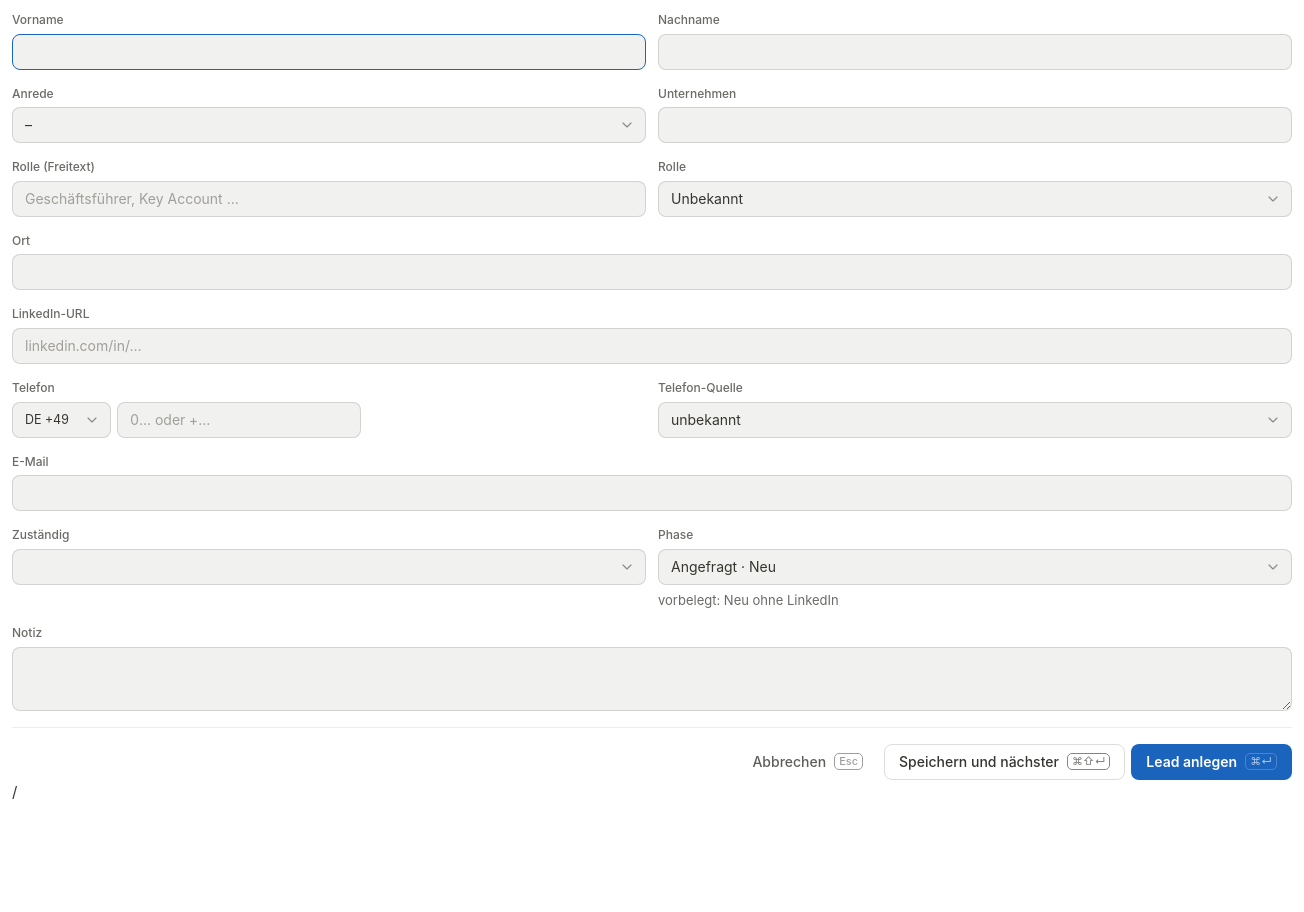
Test: LeadForm › Phase vorbelegt: Vernetzt mit URL, sonst Neu ohne LinkedIn
The width and height of the screenshot is (1304, 912).
Expected: the text "vorbelegt: Neu ohne LinkedIn" is shown, [658,592,839,608]
Type "https://www.linkedin.com/in/mara-brandt/" into the field labelled "LinkedIn-URL". click: (652, 346)
box: [25,329,1279,363]
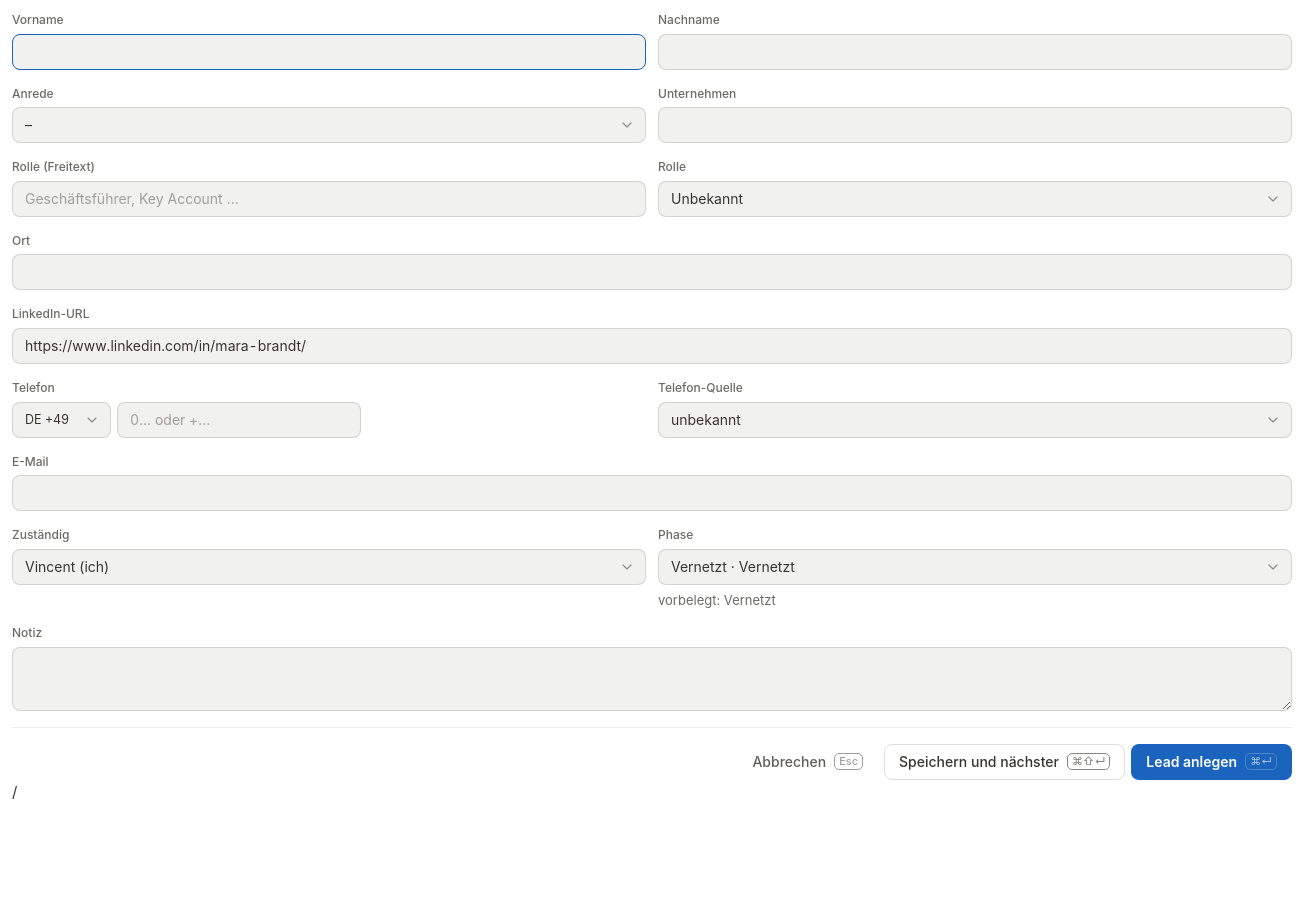
Expected: the text "vorbelegt: Vernetzt" is shown, [658,592,776,608]
